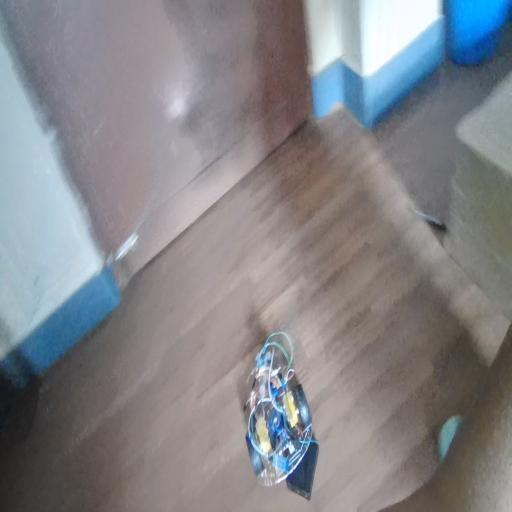car: (244, 313, 346, 491)
